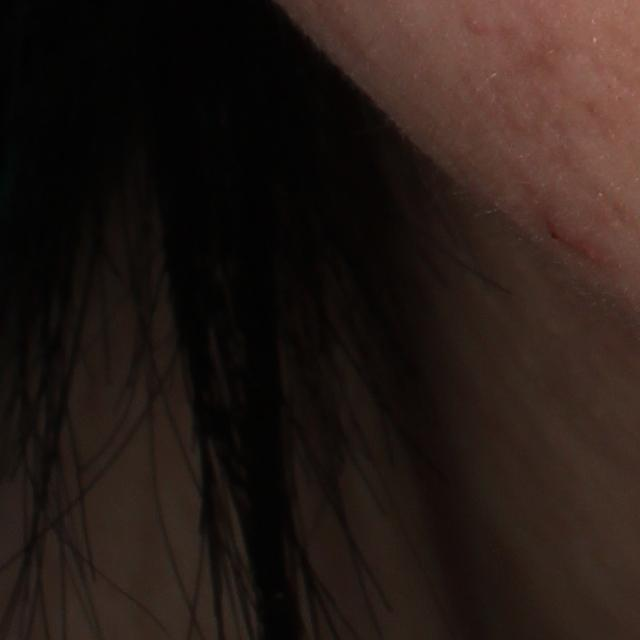papule: (540, 205, 602, 260)
